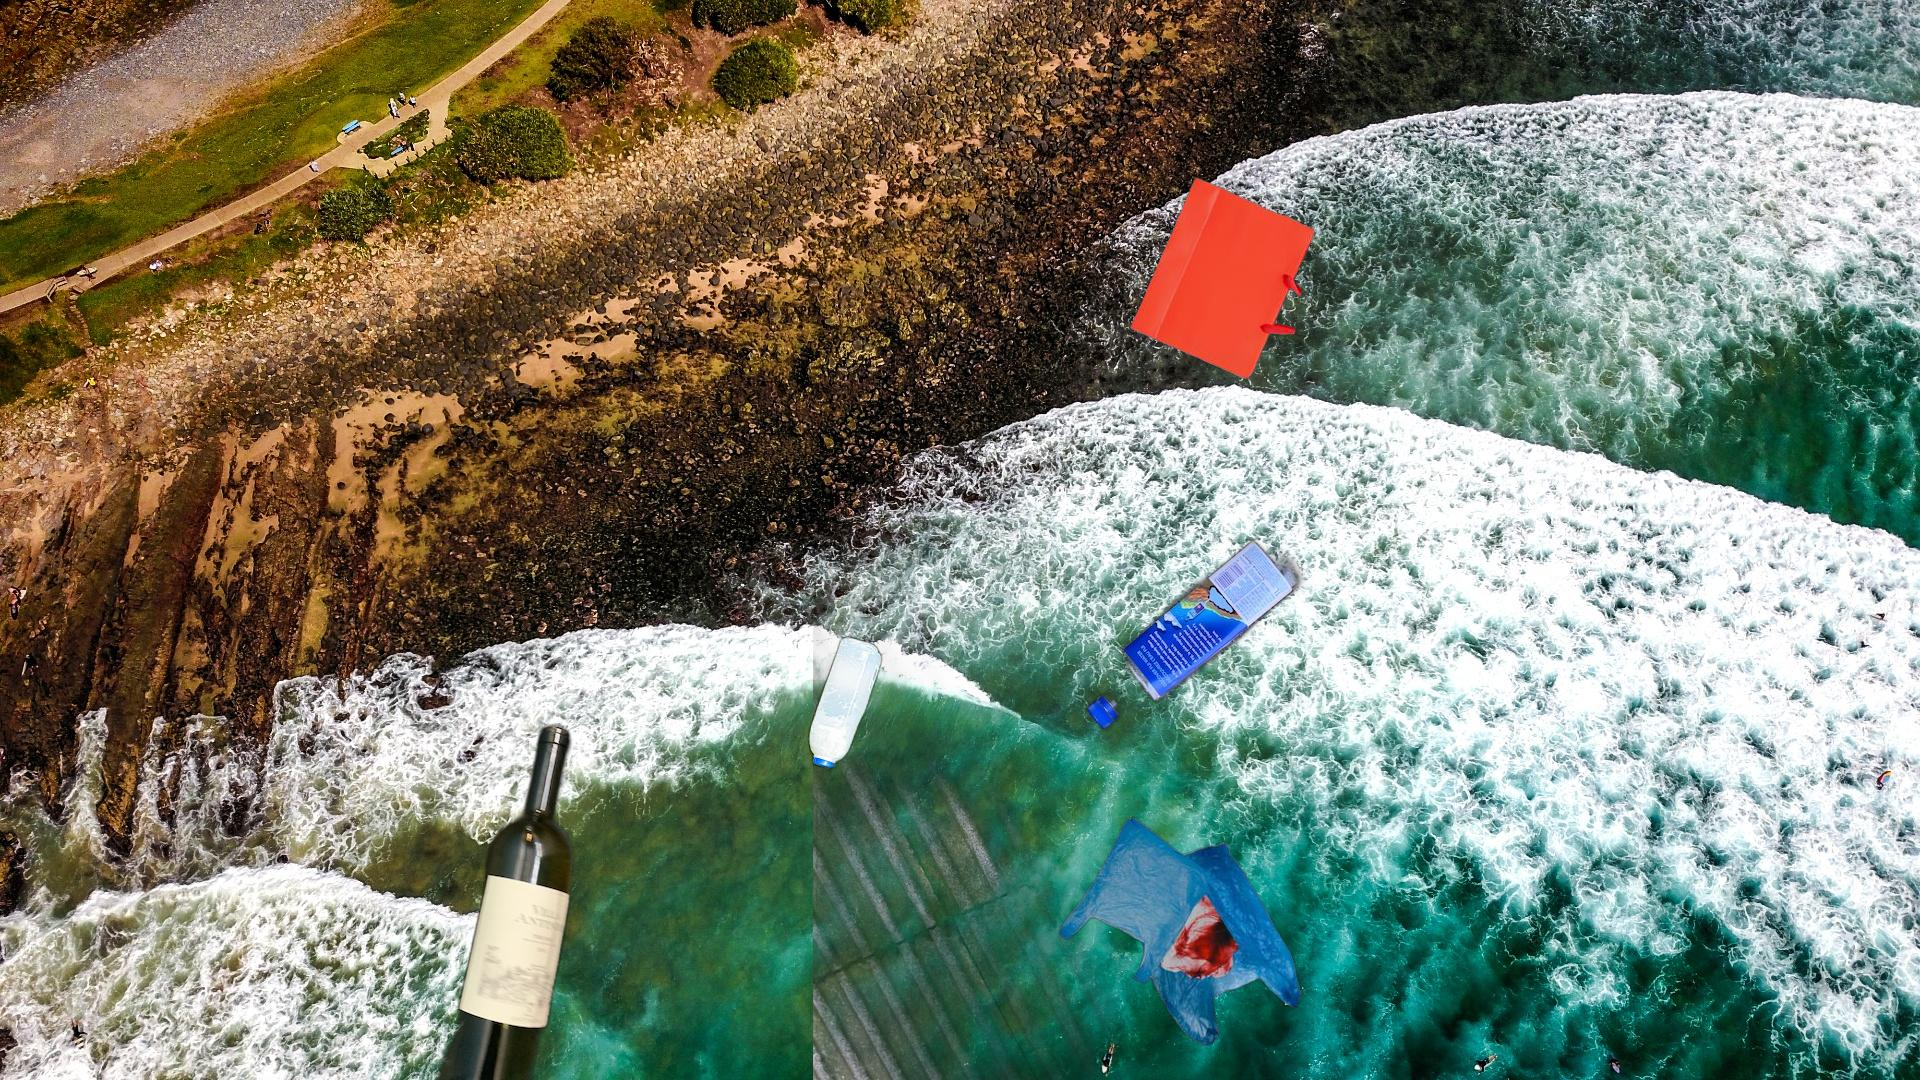glass: (433, 717, 579, 1080)
paper-bag: (1127, 175, 1317, 382)
plastic-bag: (1056, 814, 1305, 1047)
plastic-bottles: (814, 465, 1325, 1080), (804, 632, 886, 775)
